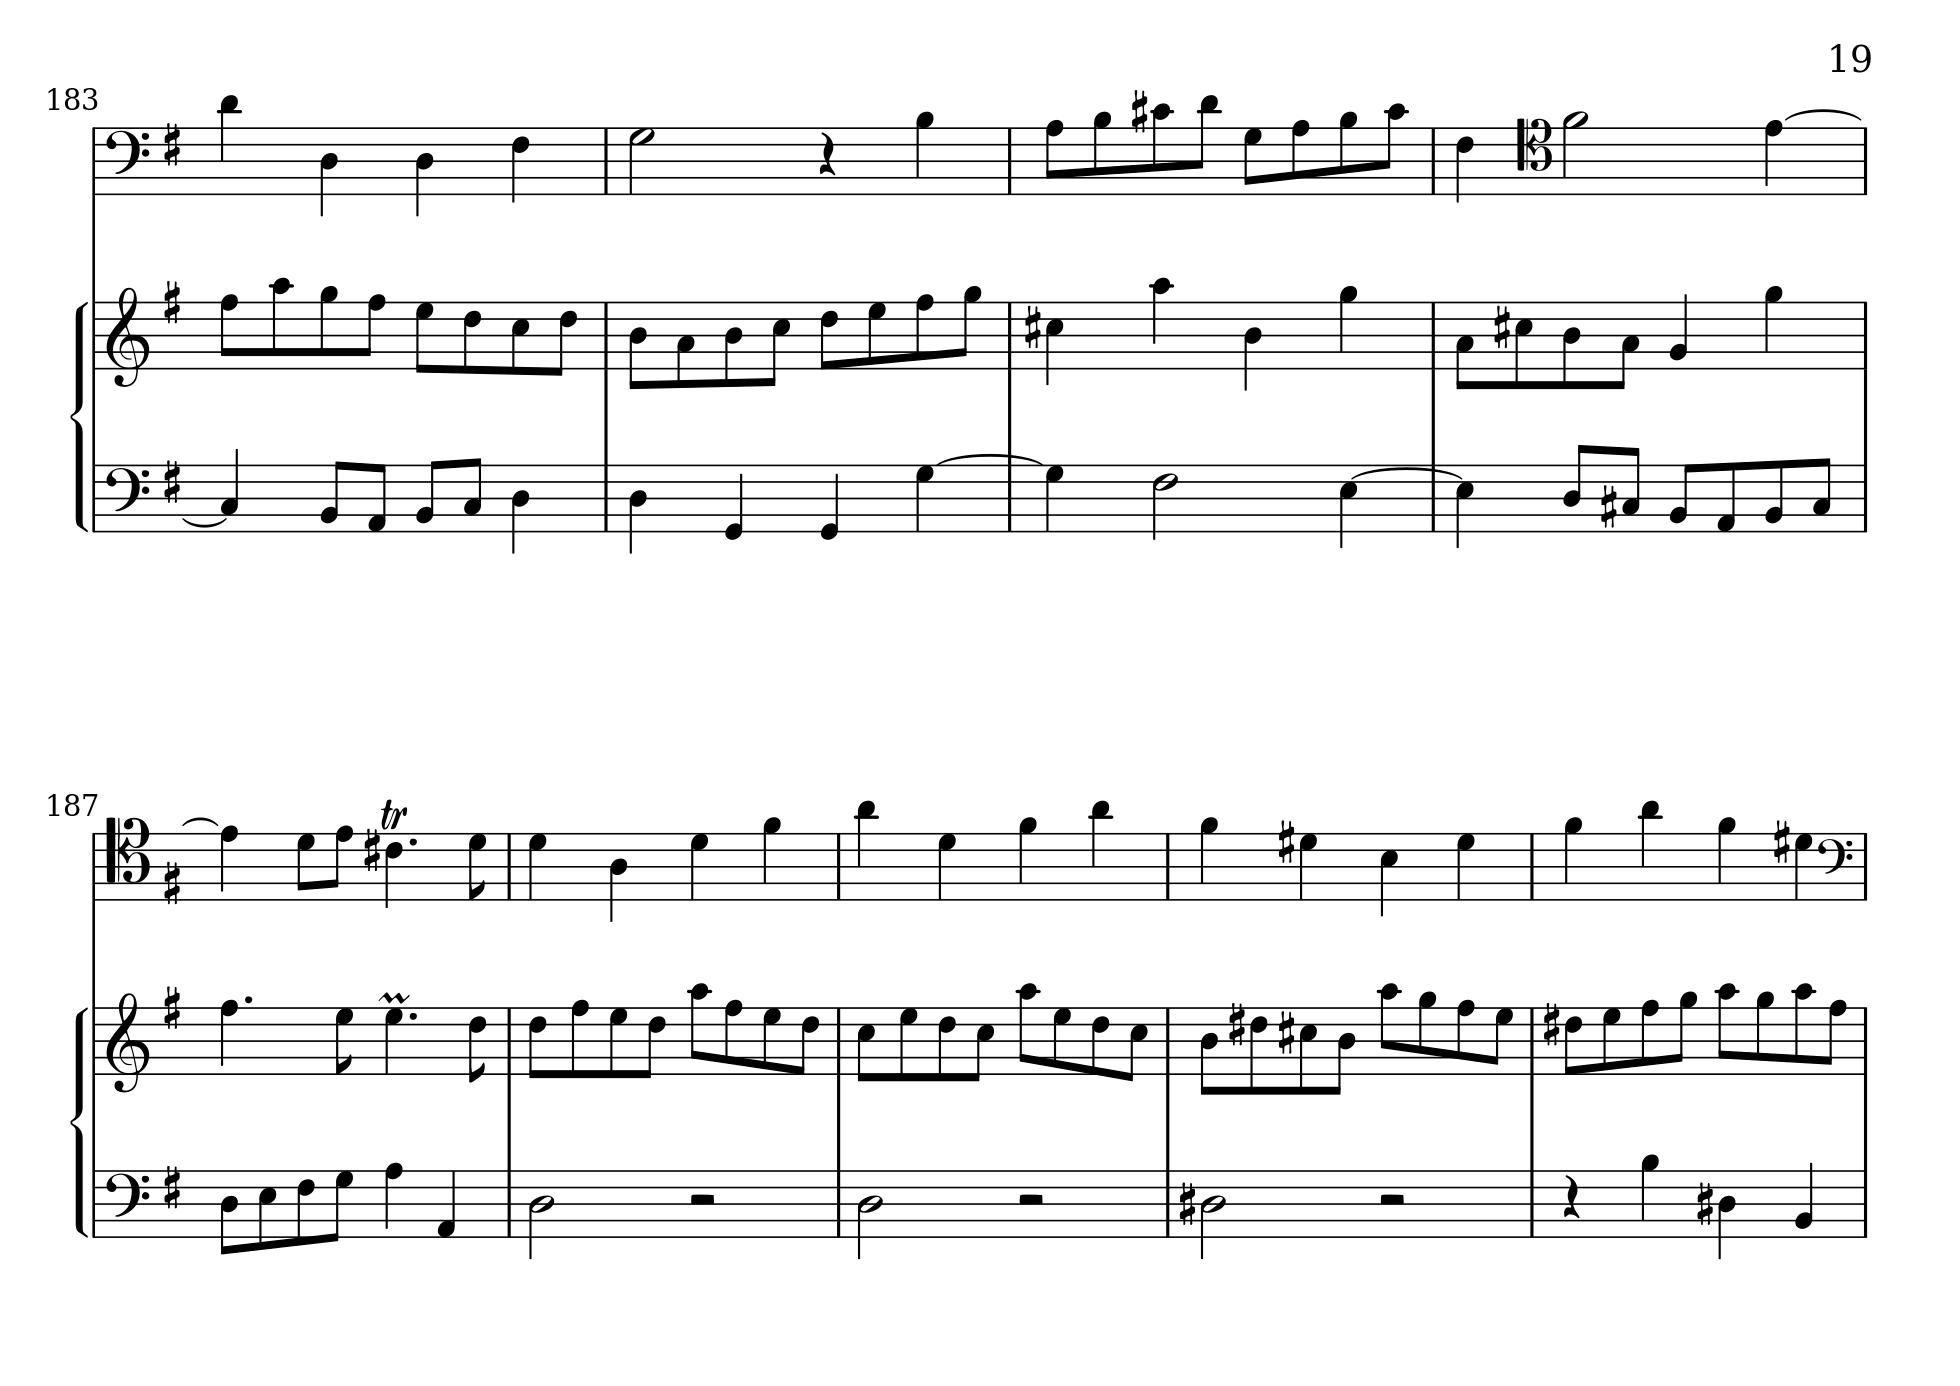1: (1830, 40, 1846, 73), (46, 85, 60, 112), (46, 790, 60, 817)
2_4: (526, 1168, 553, 1260), (856, 1168, 883, 1260), (1200, 1168, 1227, 1260)
2_6: (1152, 463, 1179, 541)
2_7: (627, 124, 655, 196)
2_9: (1561, 108, 1588, 196)
3: (81, 85, 97, 111)
4_0: (817, 460, 841, 540), (723, 462, 745, 541)
4_1: (435, 1168, 457, 1239)
4_10: (1150, 276, 1173, 372)
4_11: (1089, 796, 1113, 901), (1638, 796, 1662, 901), (853, 798, 877, 901)
4_2: (1668, 291, 1690, 370), (1794, 1159, 1815, 1239)
4_3: (219, 447, 241, 532)
4_4: (607, 829, 630, 922), (318, 126, 340, 217), (1242, 300, 1264, 391), (627, 463, 649, 555), (1716, 1168, 1738, 1260), (414, 126, 435, 217), (510, 463, 531, 555)
4_5: (1378, 831, 1401, 916), (1044, 300, 1065, 387), (1338, 463, 1359, 550), (1455, 463, 1476, 550)
4_6: (510, 124, 531, 204), (1455, 124, 1476, 202), (384, 831, 403, 909)
4_7: (936, 829, 960, 900), (913, 463, 937, 532), (1044, 462, 1066, 532), (688, 831, 711, 901), (382, 1006, 405, 1075), (1299, 829, 1320, 901), (526, 831, 547, 901), (1455, 831, 1476, 901), (1794, 831, 1815, 901)
4_8: (217, 997, 240, 1077), (217, 823, 240, 901), (1764, 117, 1785, 196), (382, 1159, 403, 1239)
4_9: (1017, 813, 1039, 901), (1762, 283, 1785, 370), (760, 814, 783, 901), (1198, 814, 1221, 901), (1716, 814, 1738, 901), (1563, 814, 1584, 903), (913, 109, 934, 196), (1639, 1152, 1660, 1239), (1338, 283, 1357, 370)
7: (81, 790, 99, 817)
8: (61, 790, 79, 817), (63, 84, 79, 111)
8_1: (364, 460, 388, 534), (1714, 460, 1737, 534)
8_10: (1378, 102, 1407, 196), (1792, 981, 1816, 1077), (1017, 981, 1041, 1075), (1377, 981, 1401, 1075), (1716, 981, 1740, 1075), (1152, 100, 1174, 196), (270, 274, 292, 370), (688, 979, 711, 1075)
8_11: (1191, 91, 1221, 196), (217, 91, 240, 196)
8_2: (412, 457, 442, 532), (318, 459, 346, 532), (1668, 462, 1695, 532), (1764, 457, 1785, 532)
8_3: (1611, 298, 1641, 391), (673, 298, 697, 388), (1620, 445, 1642, 532), (1455, 300, 1476, 391), (1812, 456, 1833, 532), (462, 456, 481, 532)
8_4: (1561, 442, 1591, 532), (1330, 1005, 1357, 1096), (1560, 298, 1584, 391), (721, 298, 744, 390), (1198, 1005, 1221, 1096), (628, 298, 649, 391), (217, 1167, 238, 1255)
8_5: (763, 298, 792, 388), (967, 1003, 996, 1081), (1512, 298, 1534, 391), (1297, 1003, 1320, 1096), (1123, 1003, 1149, 1081), (256, 1167, 277, 1251), (855, 1005, 877, 1083), (510, 298, 531, 376)
8_6: (550, 298, 579, 376), (639, 1005, 667, 1080), (793, 1005, 822, 1075), (1248, 1006, 1269, 1096), (460, 298, 483, 376), (526, 1003, 549, 1080), (466, 1005, 487, 1086), (937, 1003, 958, 1083), (294, 1167, 315, 1246), (819, 298, 840, 372), (1563, 1005, 1584, 1077), (1090, 1005, 1110, 1078)
8_7: (325, 1168, 354, 1242), (1488, 1005, 1515, 1075), (897, 1003, 919, 1081), (865, 298, 888, 370), (760, 1005, 783, 1075), (1600, 1005, 1623, 1075), (414, 298, 435, 373), (607, 1005, 628, 1078), (1242, 126, 1263, 196), (334, 1006, 355, 1077), (1051, 1005, 1072, 1075), (295, 832, 316, 901), (466, 832, 487, 901)
8_8: (358, 292, 387, 370), (325, 823, 354, 901), (1821, 999, 1848, 1077), (568, 997, 591, 1078), (1639, 997, 1662, 1077), (217, 292, 240, 370), (723, 997, 745, 1075), (1455, 997, 1477, 1075), (1044, 118, 1065, 196), (1290, 118, 1311, 196), (913, 292, 934, 370)
8_9: (954, 285, 982, 370), (1671, 990, 1699, 1075), (1092, 109, 1114, 196), (318, 283, 340, 370), (1338, 109, 1359, 196), (1417, 988, 1438, 1075), (1755, 990, 1776, 1075)
9: (1849, 40, 1872, 73)
Brace: (69, 1003, 90, 1239), (69, 300, 88, 529)
Fclef: (99, 124, 150, 196), (100, 1165, 150, 1237), (103, 460, 151, 534), (1815, 831, 1855, 901)
Gclef: (105, 283, 150, 388), (105, 990, 150, 1093)
Rests2: (685, 1191, 718, 1207), (1014, 1191, 1047, 1207), (1377, 1191, 1408, 1207)
Rests4: (1560, 1171, 1582, 1222), (816, 129, 838, 178)
Sharp: (160, 120, 183, 169), (160, 457, 183, 505), (160, 1162, 183, 1210), (1491, 303, 1512, 352), (162, 277, 183, 325), (1276, 1006, 1296, 1057), (1177, 1179, 1197, 1228), (1129, 87, 1149, 135), (1023, 303, 1042, 351), (163, 859, 183, 907), (1276, 817, 1296, 865), (1771, 817, 1791, 865), (1227, 1000, 1246, 1048), (1542, 1000, 1561, 1048), (1695, 1180, 1714, 1228), (1599, 483, 1618, 529), (162, 984, 181, 1030), (363, 825, 381, 873)
ShortTrill: (376, 988, 412, 1003)
Single_barline: (1158, 832, 1179, 898), (1855, 126, 1875, 193), (1000, 127, 1020, 193), (829, 832, 849, 898), (1002, 463, 1020, 531), (1524, 832, 1542, 898), (597, 127, 615, 192), (1425, 466, 1443, 531), (501, 1168, 517, 1237), (1002, 301, 1018, 369), (87, 463, 103, 531), (87, 1006, 103, 1074), (501, 1006, 517, 1074), (87, 127, 103, 193), (1425, 127, 1441, 193), (87, 301, 103, 367), (1857, 301, 1873, 367), (1425, 301, 1441, 367), (1857, 465, 1873, 531), (1524, 1170, 1540, 1236), (1858, 1006, 1873, 1075), (1857, 832, 1872, 900), (1524, 1006, 1539, 1074), (831, 1008, 846, 1075), (1857, 1170, 1872, 1237), (598, 301, 613, 367), (598, 463, 613, 529), (502, 832, 517, 898), (1161, 1008, 1176, 1074), (831, 1171, 846, 1237), (87, 832, 102, 897), (1161, 1168, 1174, 1237), (88, 1170, 102, 1237)
Slur: (934, 451, 1042, 466), (1347, 465, 1467, 478), (1783, 106, 1863, 121), (181, 516, 229, 526), (181, 814, 217, 826)
Tensor_Cclef: (103, 814, 150, 901), (1515, 115, 1554, 195)
Trill: (376, 796, 409, 831)
dot: (406, 835, 418, 847), (241, 993, 253, 1005), (406, 1009, 418, 1021)
